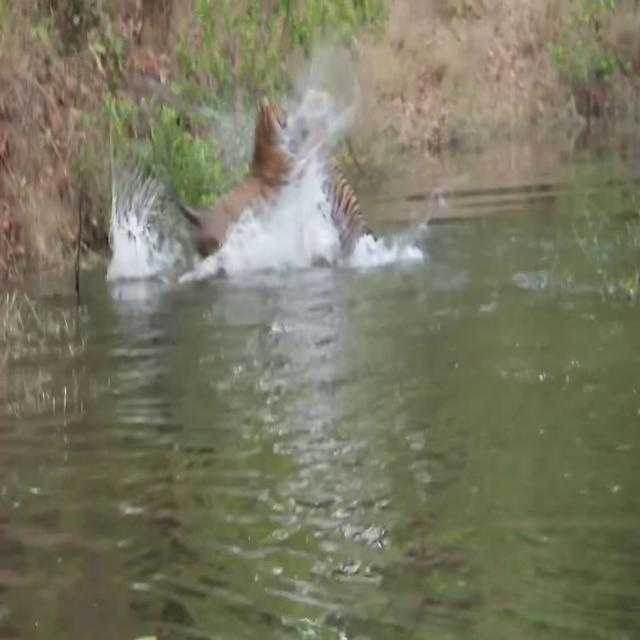tiger: (179, 94, 316, 260)
